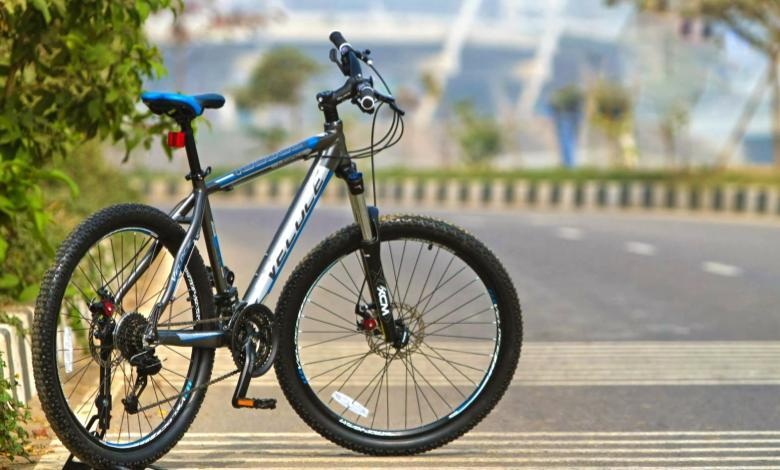bicycle: (29, 30, 524, 470)
